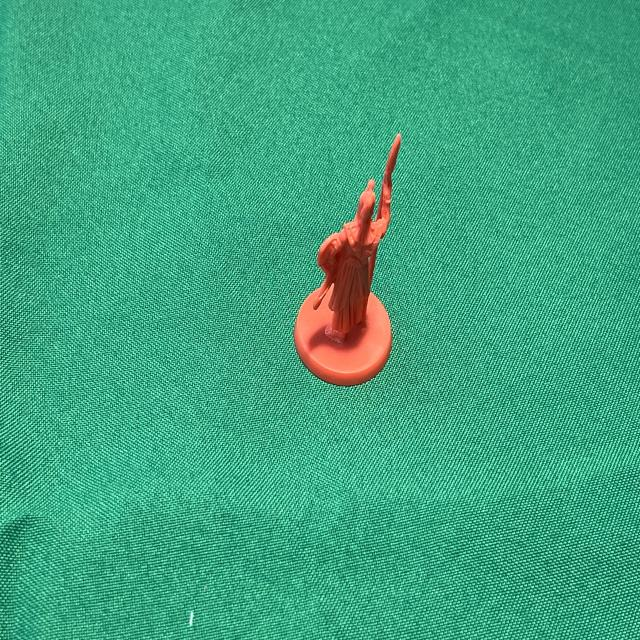amon_follower: (294, 135, 401, 385)
